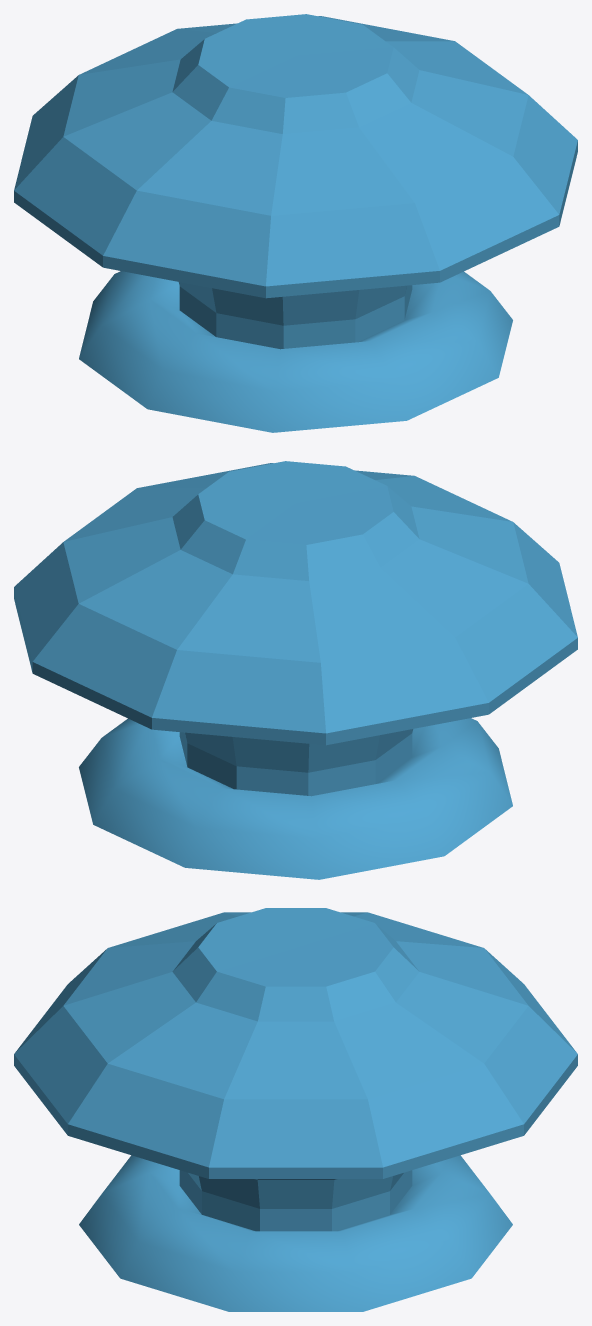
File: 弹跳台.FBX
3 views of the same model, one above another, from view 1: azimuth 30°, elevation 25°; view 2: azimuth 150°, elevation 25°; view 3: azimuth 270°, elevation 25° (orthographic). The views are drawn at different scales.
Visible parts, largest first — view 1: default; view 2: default; view 3: default.
Boxes of the visible parts, x1,y1,x2,y2 form: default: [14, 14, 577, 432]; default: [14, 461, 577, 879]; default: [14, 908, 577, 1311].
Bounding box in the file's own units: 59.64 × 34.03 × 62.71.
